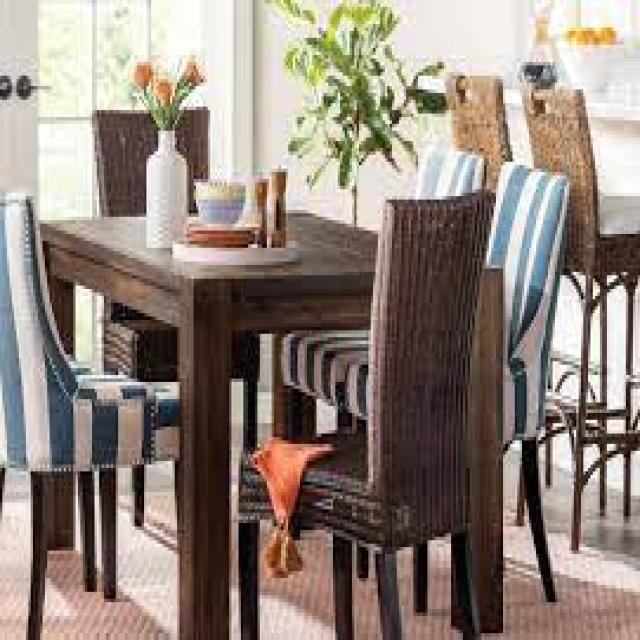chair: (234, 183, 497, 639), (2, 194, 184, 640), (85, 104, 266, 549), (407, 160, 568, 616), (516, 82, 640, 564), (438, 58, 559, 527)
